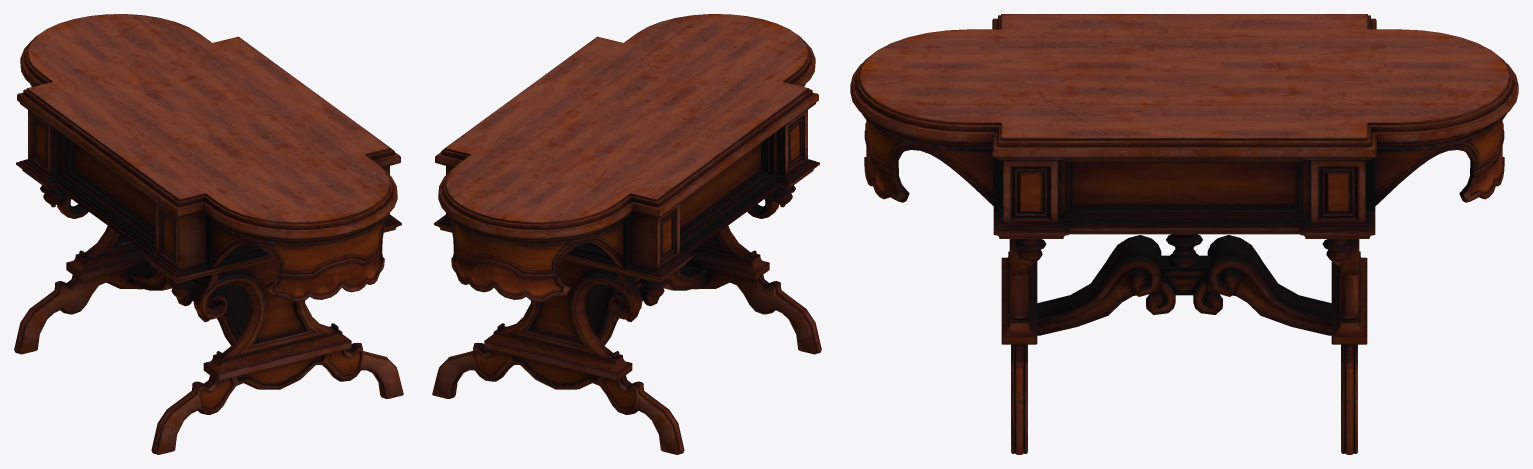
Rendered from dining_table_antique_wooden_gulerbrkn.glb.
The picture shows the model from 3 angles, left to right: view 1: azimuth 30°, elevation 25°; view 2: azimuth 150°, elevation 25°; view 3: azimuth 270°, elevation 25°; orthographic projection. The views are drawn at different scales.
Parts seen in each view (by area): view 1: Circle.019_Baked_Circle.019_Baked_0; view 2: Circle.019_Baked_Circle.019_Baked_0; view 3: Circle.019_Baked_Circle.019_Baked_0.
Boxes of the visible parts, x1=… form: Circle.019_Baked_Circle.019_Baked_0: x1=14, y1=14, x2=403, y2=454; Circle.019_Baked_Circle.019_Baked_0: x1=432, y1=14, x2=821, y2=454; Circle.019_Baked_Circle.019_Baked_0: x1=850, y1=14, x2=1518, y2=454.
Bounding box in the file's own units: 0.7647 × 0.7437 × 1.47.
Materials: 1 (1 with a texture image).
